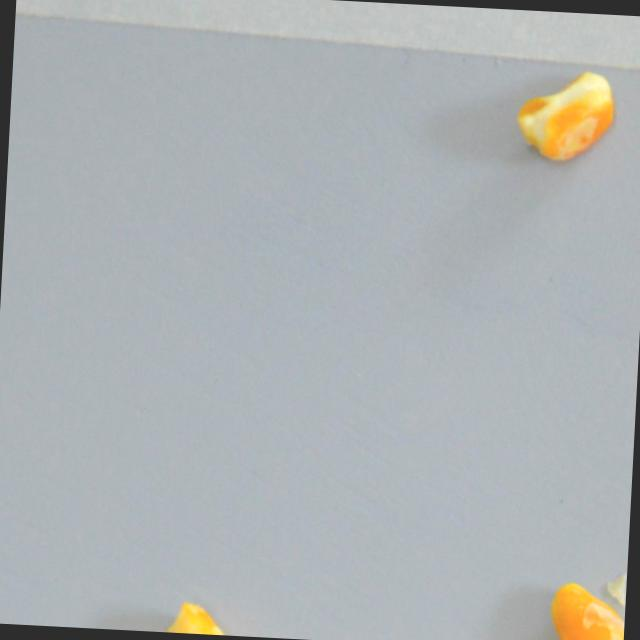pelicula: (512, 65, 620, 168), (549, 579, 627, 640), (164, 600, 244, 636)
